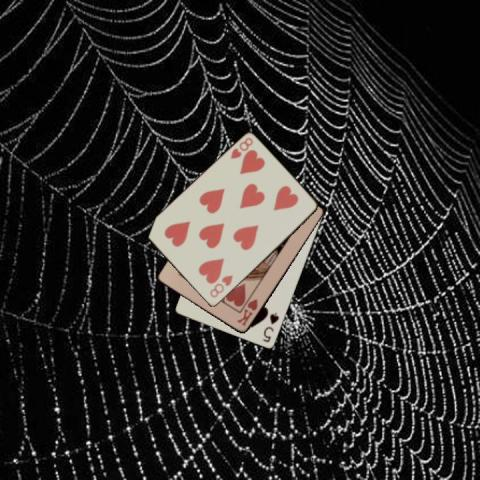5s: (260, 310, 281, 344)
8h: (206, 272, 234, 299), (227, 134, 255, 161)
Kh: (234, 296, 259, 328)
